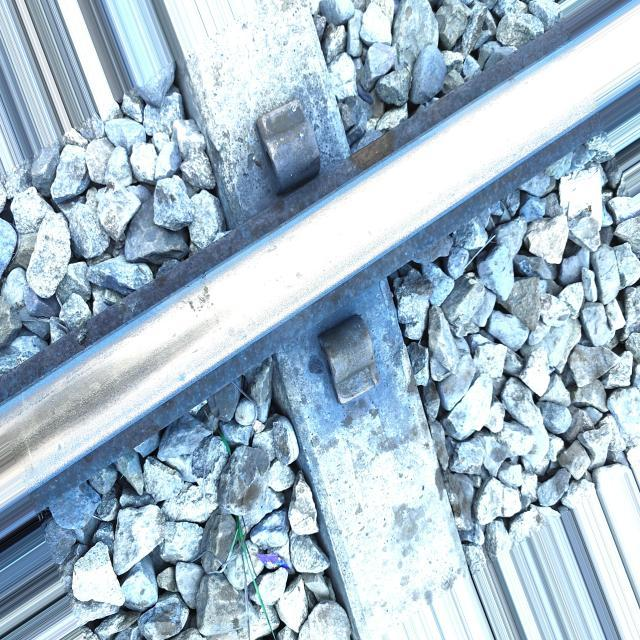Missing Fastener: (233, 77, 336, 203), (304, 296, 383, 413)
